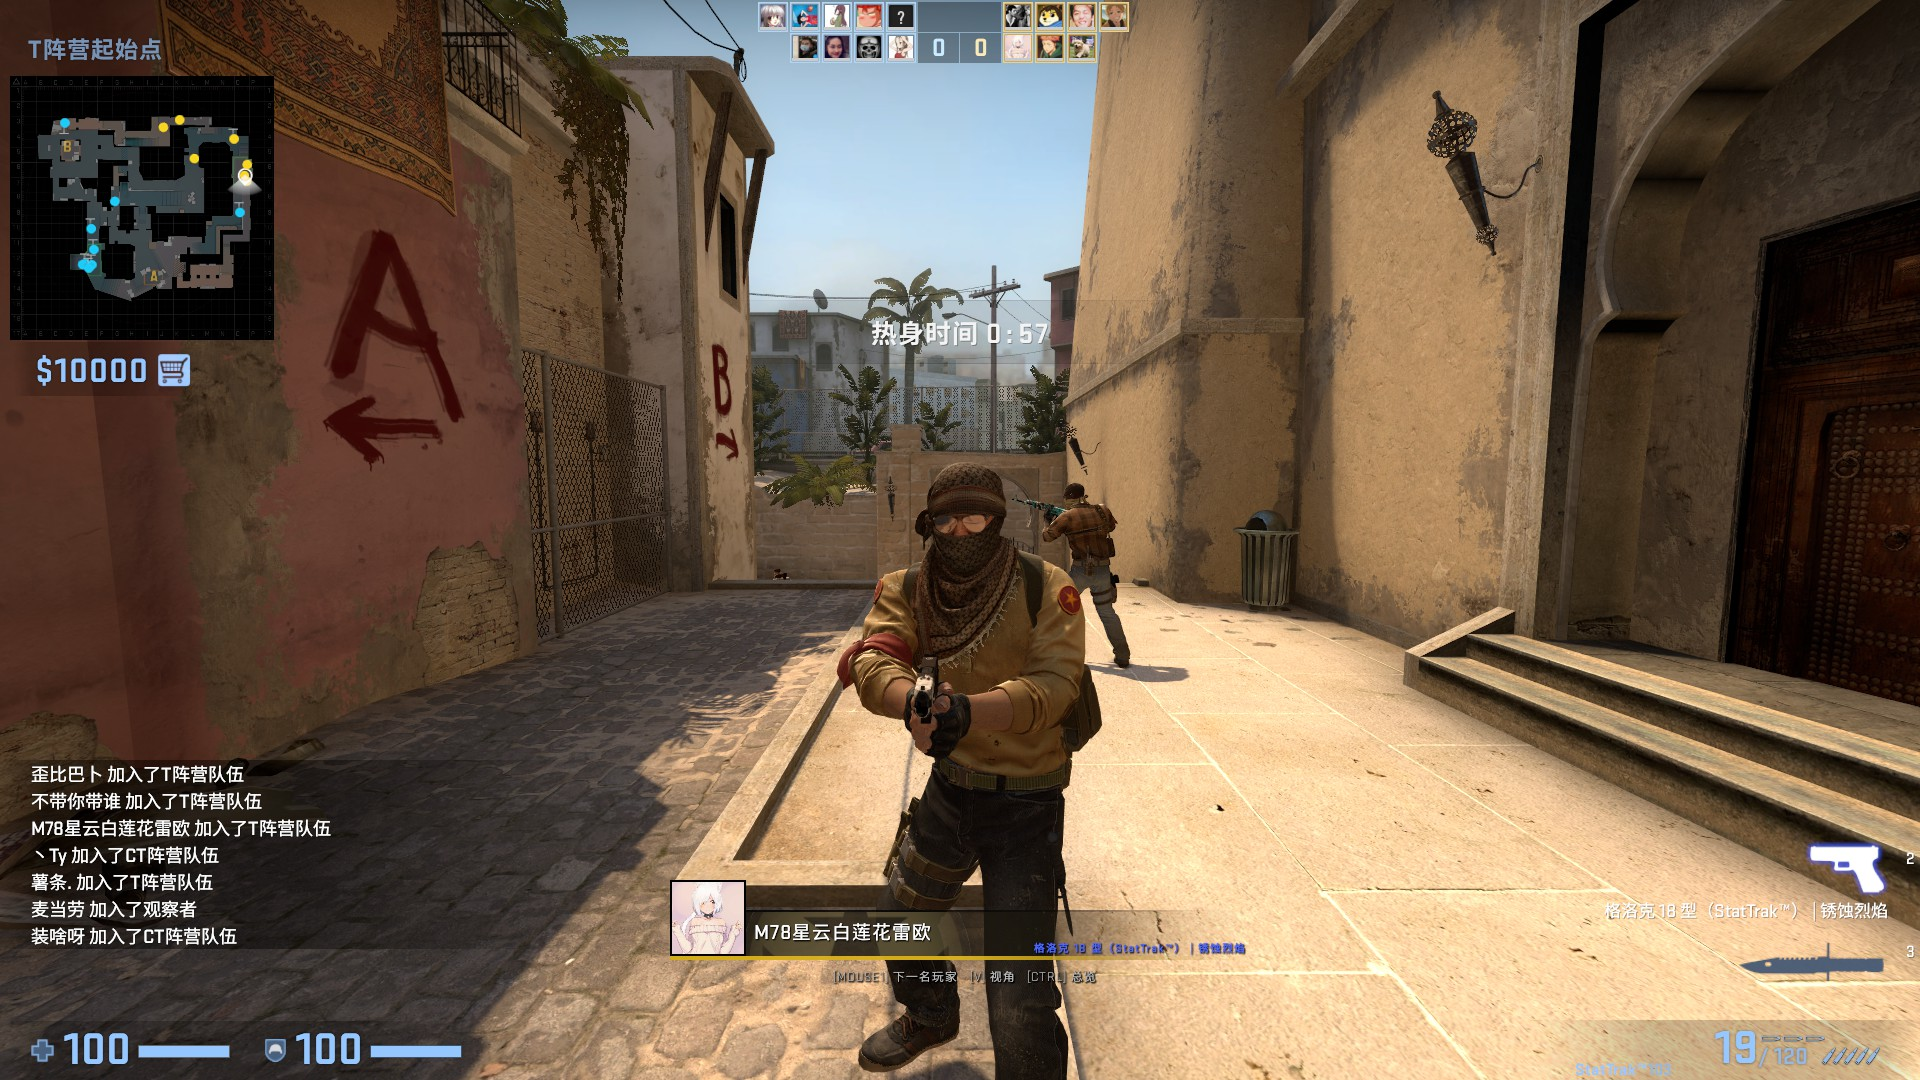head: (917, 454, 1009, 578), (1061, 482, 1088, 507), (771, 567, 782, 576)
